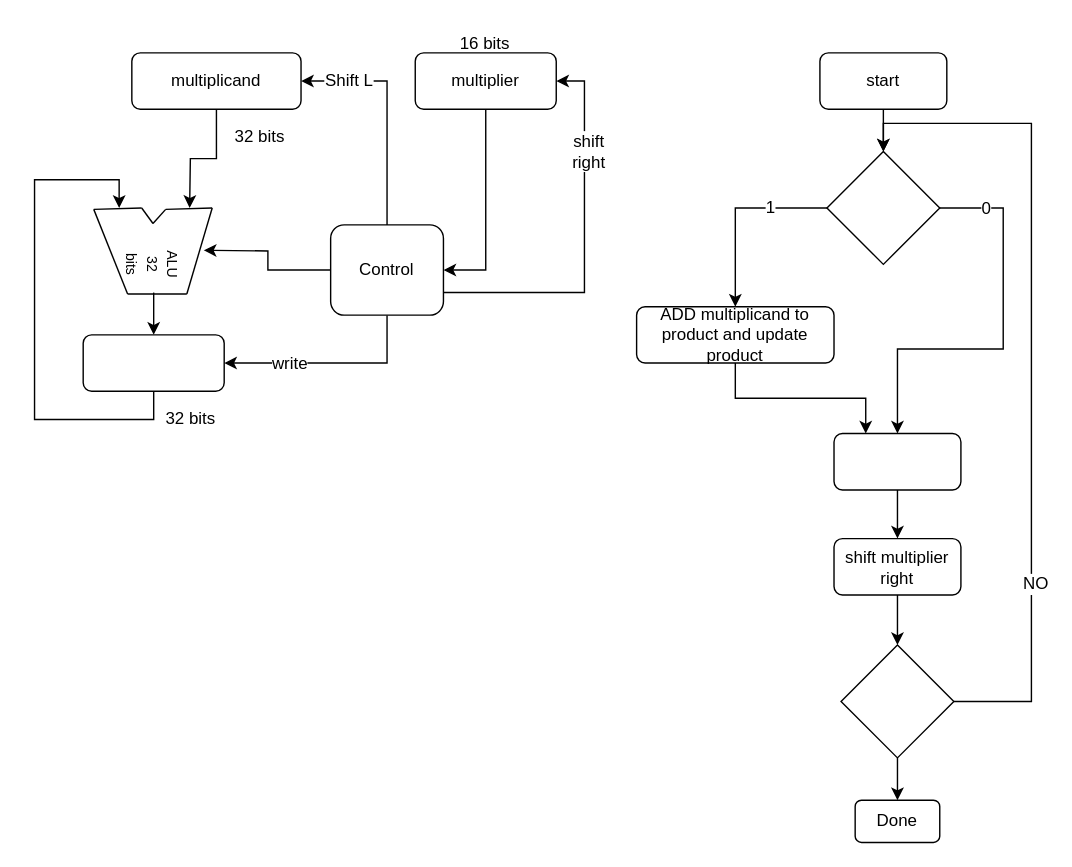
Some shapes in this 1072 by 867 pixel diagram are drawn without their labels. The centre of each missing label's shape, as x and y in pixels:
"64th repetition?" belongs at [897,701].
"Product" belongs at [153,362].
"shift multiplicand left" belongs at [897,461].
"test LSB of multiplier" belongs at [883,207].
